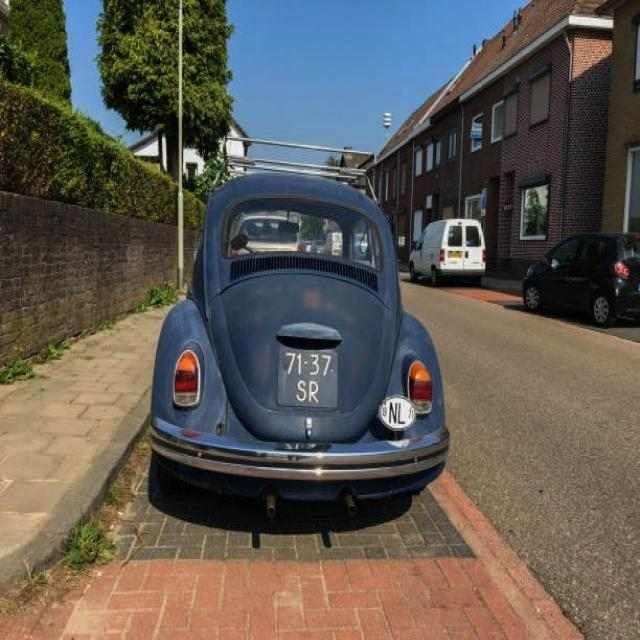car: (162, 159, 452, 506), (515, 228, 640, 326), (415, 216, 482, 286)
